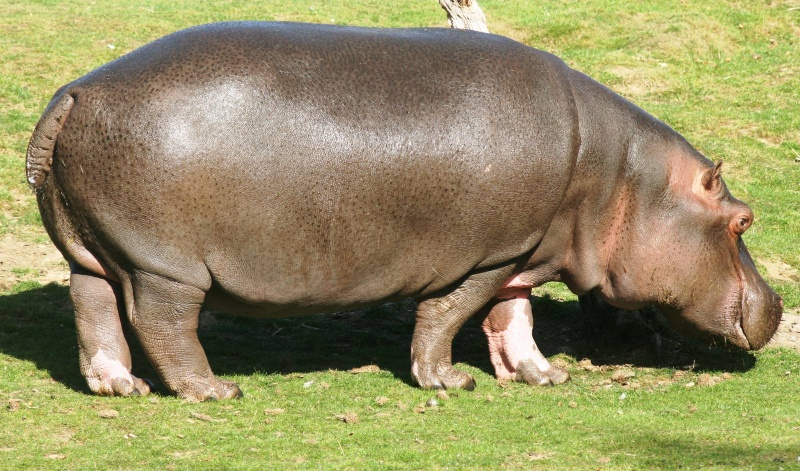hipopotamo: (19, 14, 785, 405)
